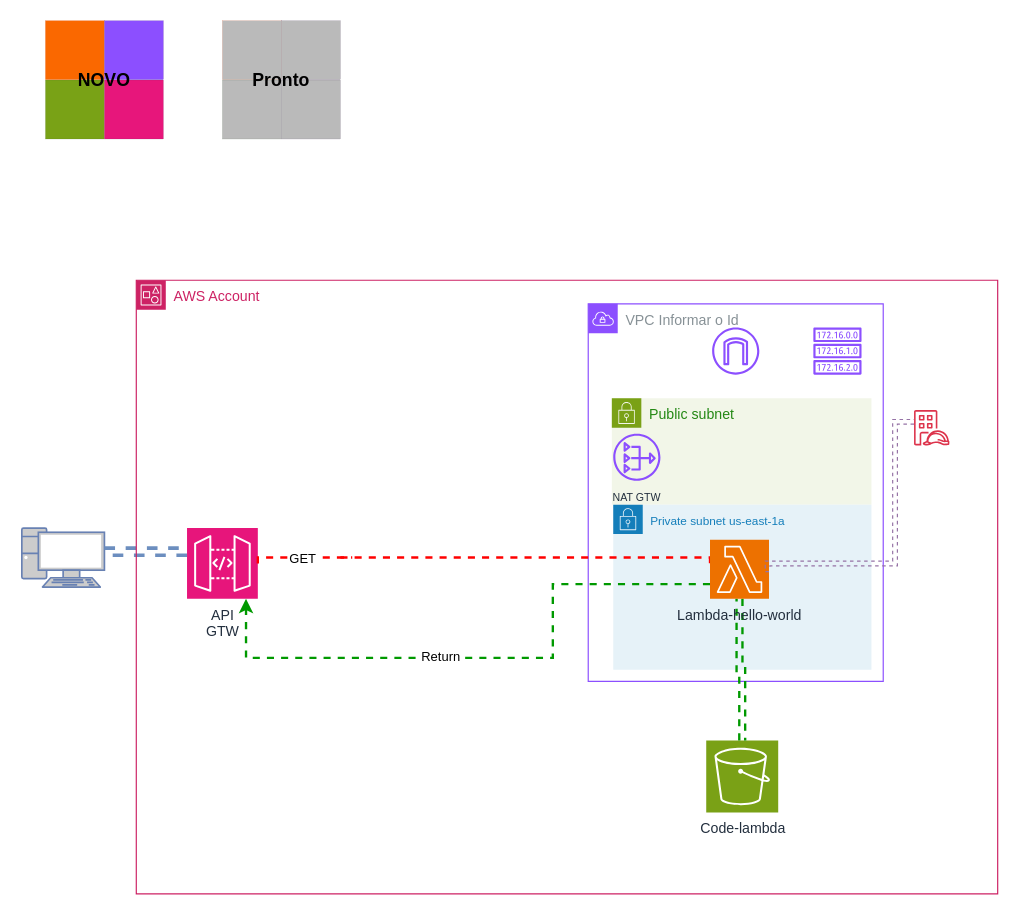
Some shapes in this 1018 by 914 pixel diagram are drawn without their labels. Here are the shapes that lost their labels. From the top down, the centre of each, then its label:
At (x=735, y=350): "Internet Gtw".
At (x=837, y=350): "Route Table".
At (x=931, y=427): "Role Iam".
At (x=62, y=557): "User get API".
